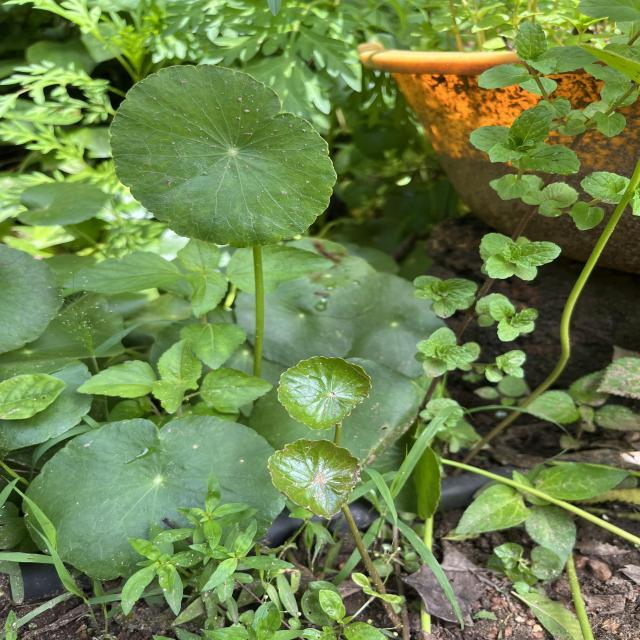Bacopa monnieri: (107, 62, 340, 250), (264, 434, 365, 522), (274, 353, 376, 433)
